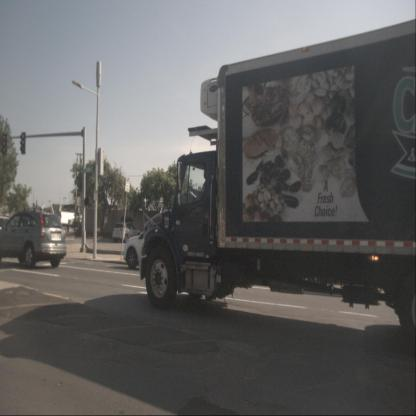vehicle-car: (123, 219, 208, 270), (0, 210, 67, 268), (112, 222, 142, 243)
vehicle-truck: (140, 19, 416, 346)
